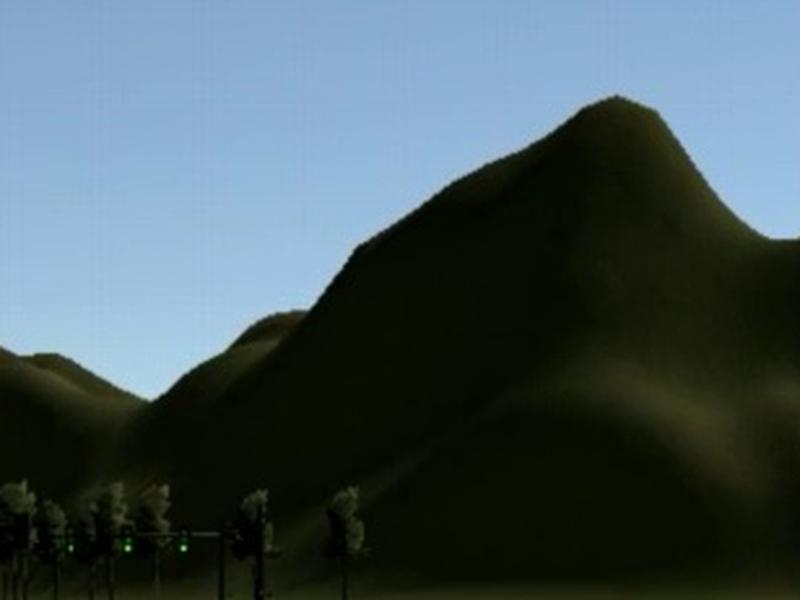Green: (121, 524, 134, 553), (177, 526, 189, 555), (65, 526, 77, 552)
